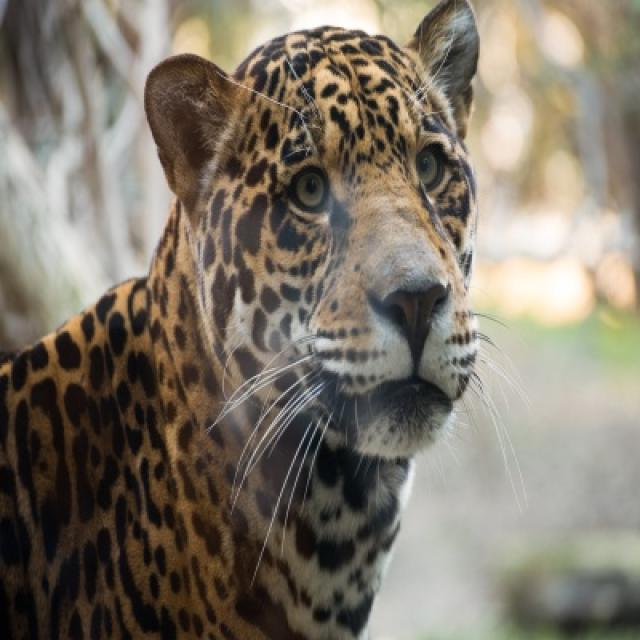Jaguar: (0, 0, 482, 638)
